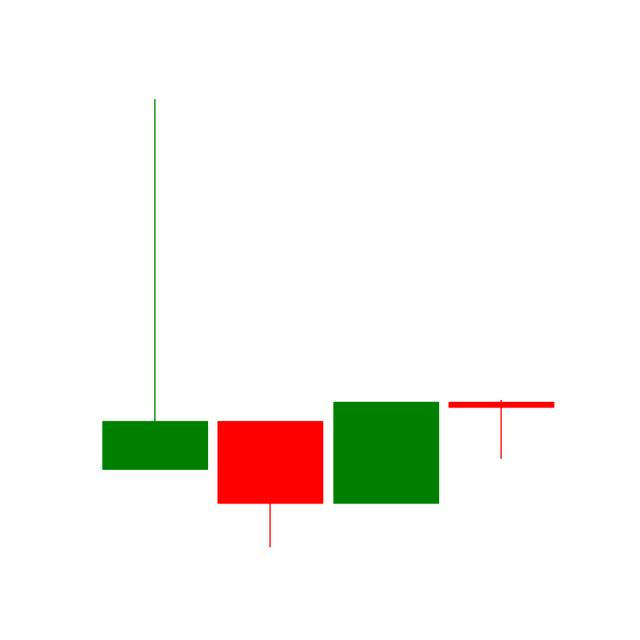Hammer: (443, 399, 559, 460)
